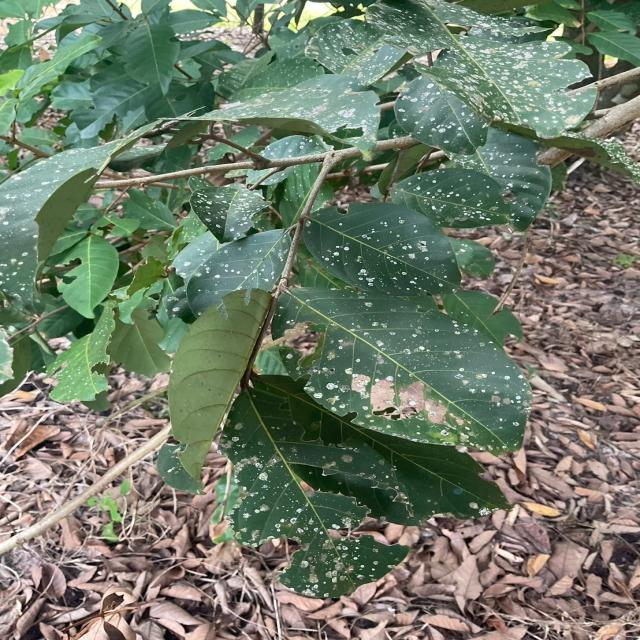Algal Leaf Spot: (203, 189, 501, 422), (299, 14, 572, 179), (234, 438, 416, 592), (15, 148, 85, 276)
